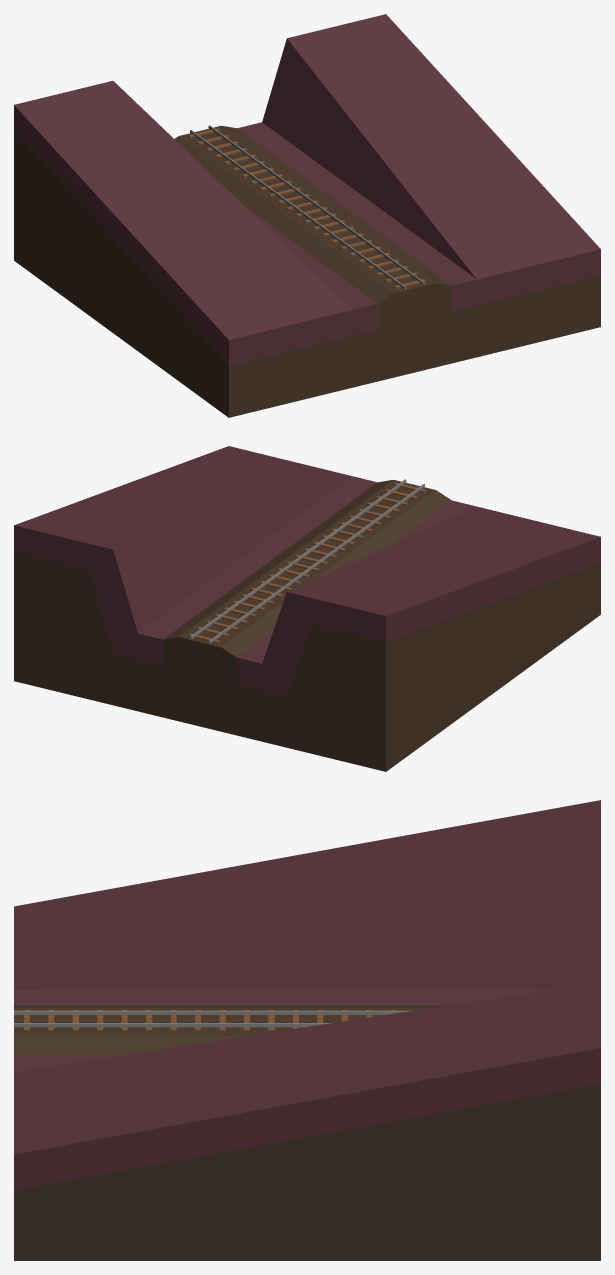
The model's file is tile-rail-tunnel-entrance.fbx.
3 views of the same model, one above another, from view 1: azimuth 30°, elevation 25°; view 2: azimuth 150°, elevation 25°; view 3: azimuth 270°, elevation 25° (orthographic). The views are drawn at different scales.
Visible parts, largest first — view 1: tile-rail-tunnel-entrance; view 2: tile-rail-tunnel-entrance; view 3: tile-rail-tunnel-entrance.
Boxes of the visible parts, left/top/right/bottom form: tile-rail-tunnel-entrance: left=14, top=14, right=600, bottom=417; tile-rail-tunnel-entrance: left=14, top=446, right=600, bottom=771; tile-rail-tunnel-entrance: left=14, top=800, right=600, bottom=1260.
Size of the model in its own units: 30 by 12 by 30.
